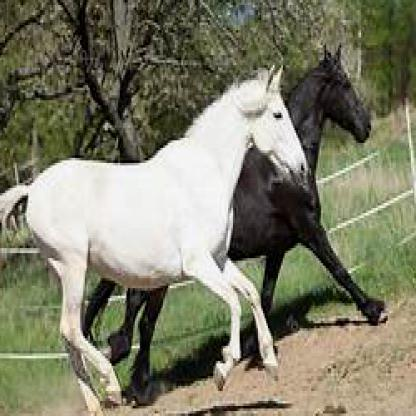horse: (82, 48, 386, 411), (2, 67, 306, 414)
